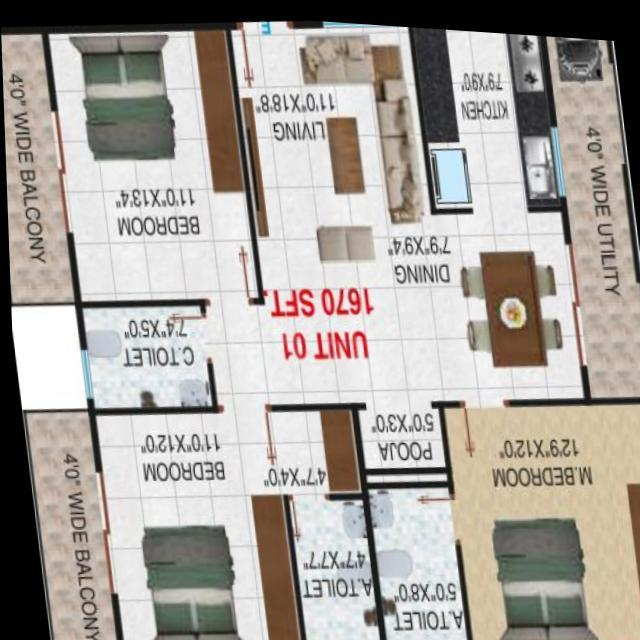Balcony-Sitout: (19, 409, 112, 640), (1, 26, 75, 308)
Bedroom: (40, 21, 262, 305)
Bedroom with Toilet: (359, 392, 640, 640), (87, 402, 378, 640)
Dining: (452, 235, 567, 364)
Kitchen: (406, 21, 566, 208)
Living: (224, 16, 431, 214)
Pooja: (353, 401, 445, 484)
Toilet: (75, 292, 214, 413), (363, 479, 464, 640), (284, 485, 375, 640)
Utility: (542, 28, 640, 391)
